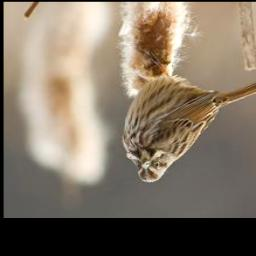Sparrow: (120, 46, 256, 184)
